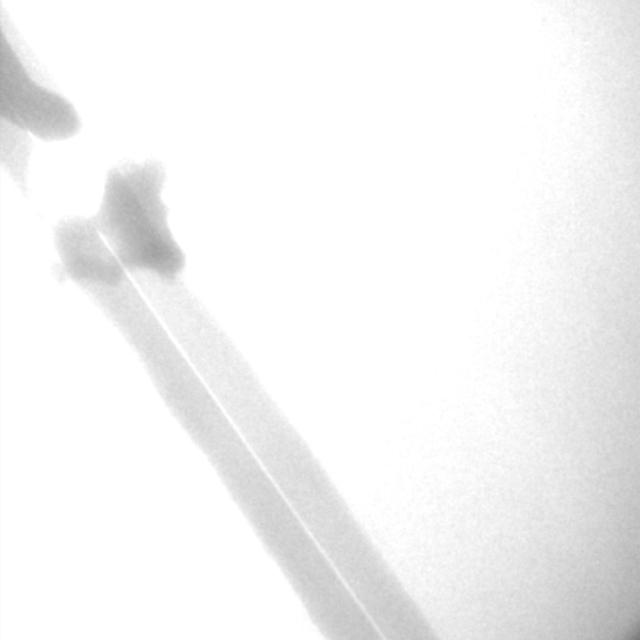broken arc: (20, 122, 383, 636)
